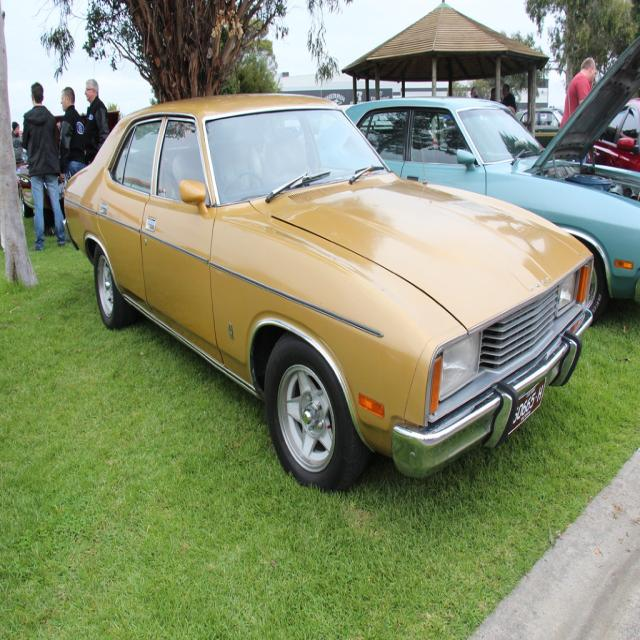car: (44, 98, 608, 500)
